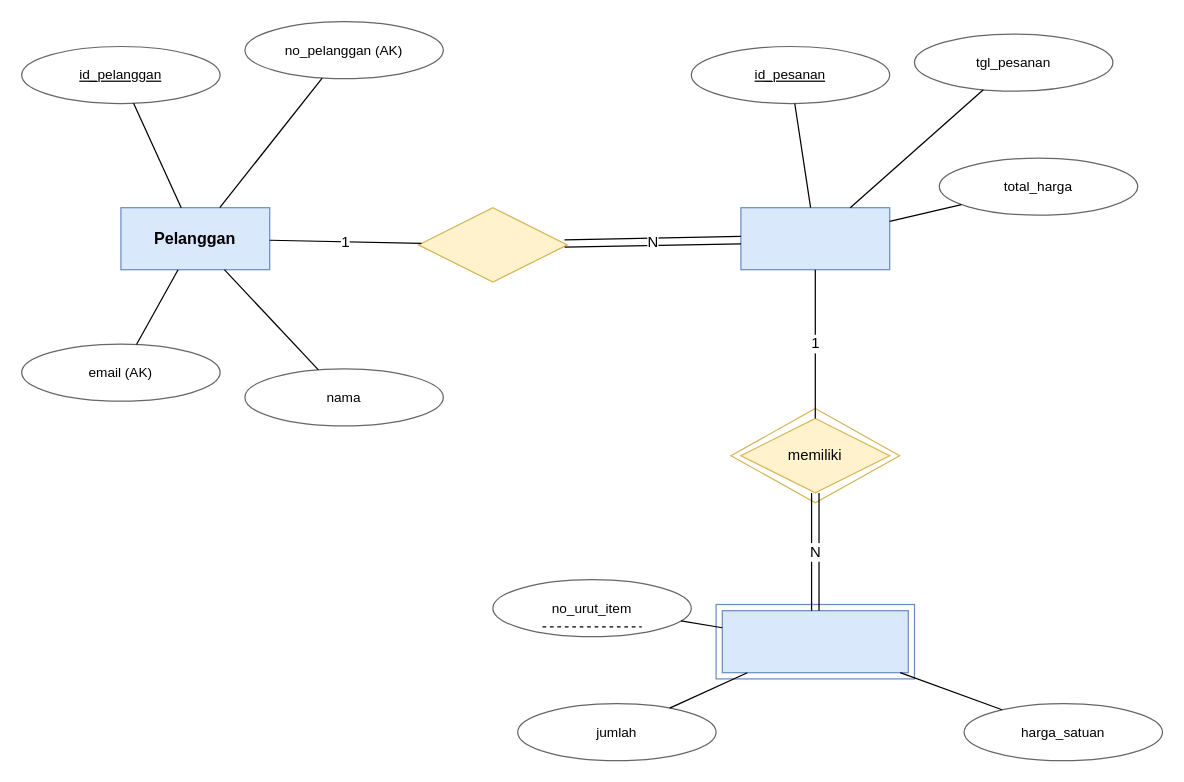
Some shapes in this 1184 by 782 pixel diagram are drawn without their labels. The centre of each missing label's shape, as x and y in pixels:
"Item_Pesanan" belongs at (814,641).
"melakukan" belongs at (492,244).
"Pesanan" belongs at (815,238).
